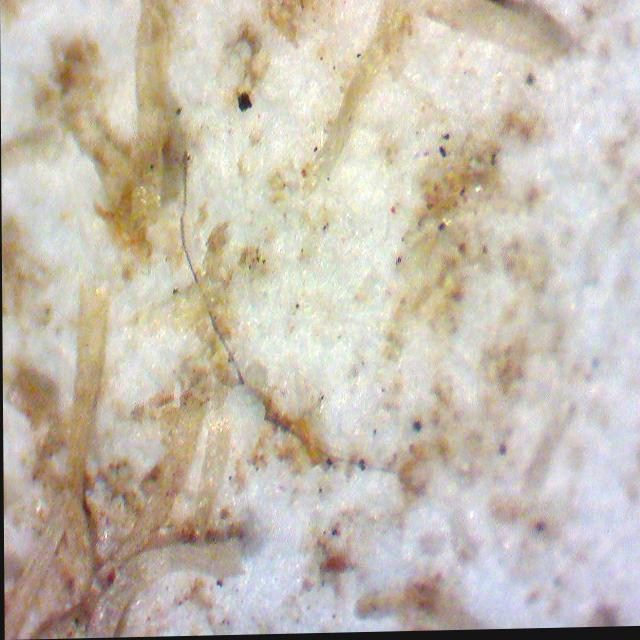microplastic: (177, 147, 402, 479)
